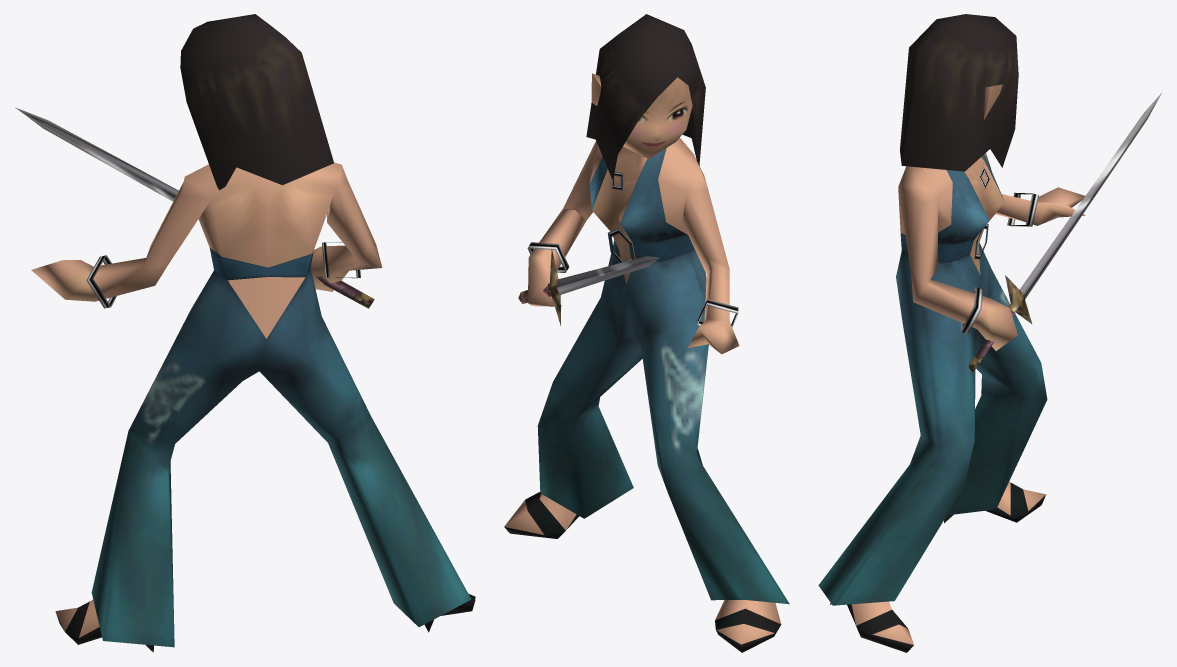
Rendered from ur.ico.obj.
The picture shows the model from 3 angles, left to right: view 1: azimuth 30°, elevation 25°; view 2: azimuth 150°, elevation 25°; view 3: azimuth 270°, elevation 25°; orthographic projection. The views are drawn at different scales.
Bounding box in the file's own units: 2.43 × 4.19 × 2.35.
Materials: 1 (1 with a texture image).
